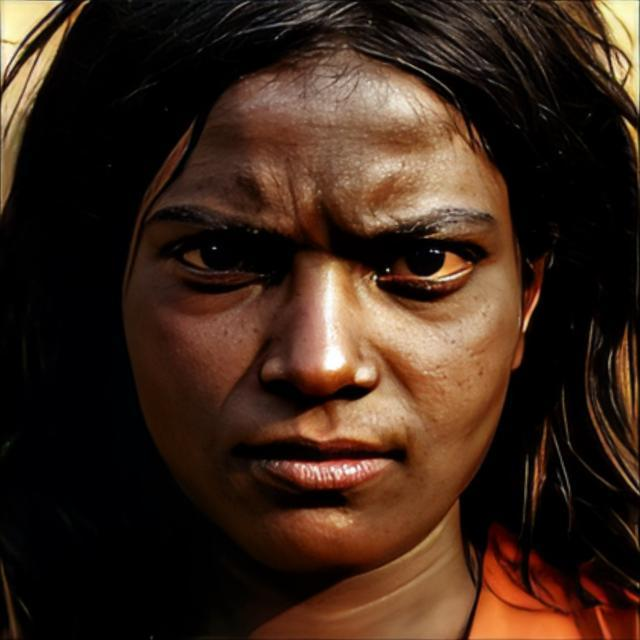anger: (121, 53, 524, 576)
